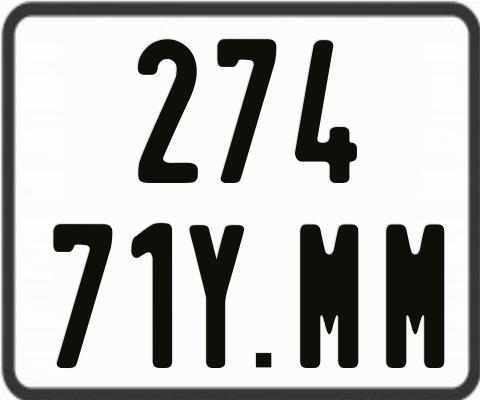1: (128, 221, 170, 367)
2: (135, 38, 195, 183)
4: (293, 40, 357, 187)
7: (215, 39, 280, 184), (51, 223, 113, 373)
M: (299, 223, 362, 369), (384, 221, 442, 365)
Y: (186, 225, 244, 373)
